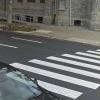Crosswalk: (15, 46, 99, 98)
